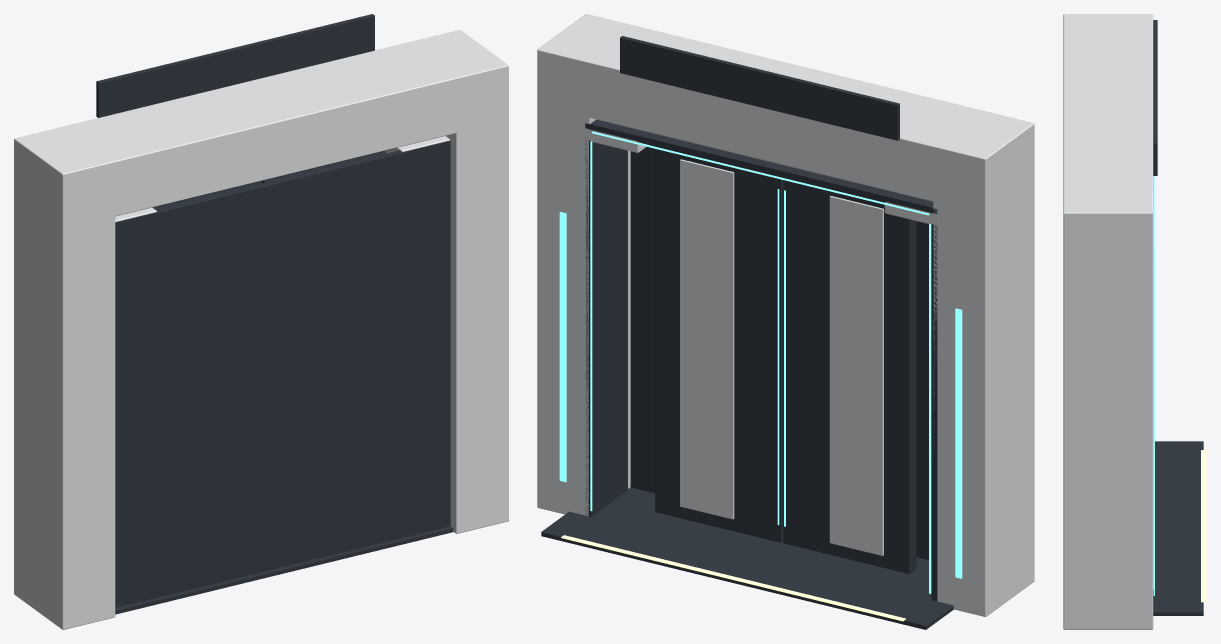
The model's file is Gate.fbx.
3 views of the same model, side by side, from view 1: azimuth 30°, elevation 25°; view 2: azimuth 150°, elevation 25°; view 3: azimuth 270°, elevation 25° (orthographic). The views are drawn at different scales.
Parts seen in each view (by area): view 1: GATE_Frame; view 2: GATE_Frame, GATE_DoorR, GATE_DoorL; view 3: GATE_Frame.
Boxes of the visible parts, x1=… form: GATE_Frame: x1=14, y1=14, x2=508, y2=629; GATE_Frame: x1=537, y1=14, x2=1034, y2=629; GATE_DoorR: x1=783, y1=178, x2=916, y2=573; GATE_DoorL: x1=655, y1=146, x2=783, y2=542; GATE_Frame: x1=1063, y1=14, x2=1206, y2=629.
Size of the model in its own units: 4.2 by 4.41 by 1.28.
